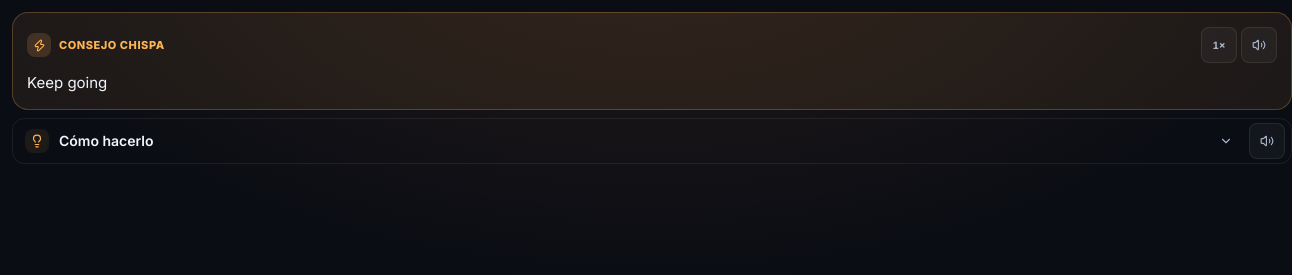
ExerciseExplainer › shows micro-pasos as a numbered checklist when expanded
What coordinates should you click on to do the following:
click the button "Cómo hacerlo"
I would click on:
 (106, 141)
Its box is [13,119,1245,163].
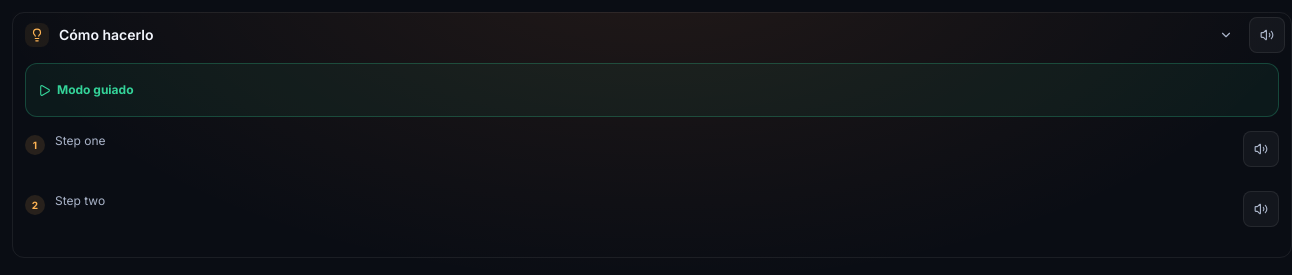
Expected: the text "Step one" is shown, [55,133,106,148]
Expected: the text "Step two" is shown, [55,193,105,208]
Expected: the number of list items is 2, [25,125,1279,181]; [25,185,1279,241]
